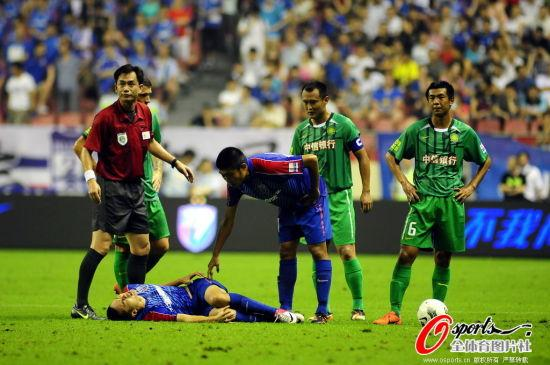bending: (203, 146, 335, 332)
down: (104, 264, 309, 328)
up: (380, 79, 491, 330), (74, 64, 170, 320), (285, 81, 370, 329)
